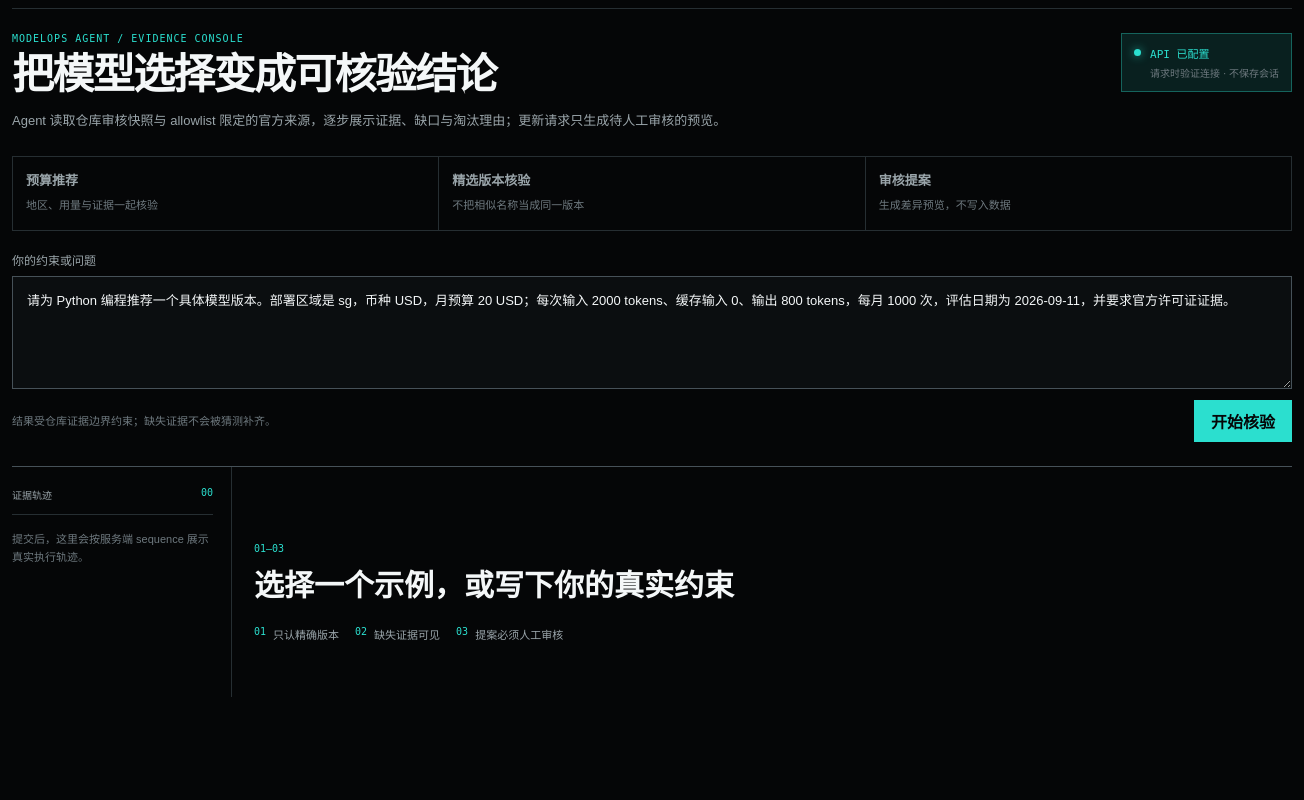
it: AgentPanel › aborts an in-flight request from the stop control
What coordinates should you click on to do the following:
click the button "开始核验"
I would click on:
 (1243, 422)
Its box is top-left (1194, 400), bottom-right (1292, 442).
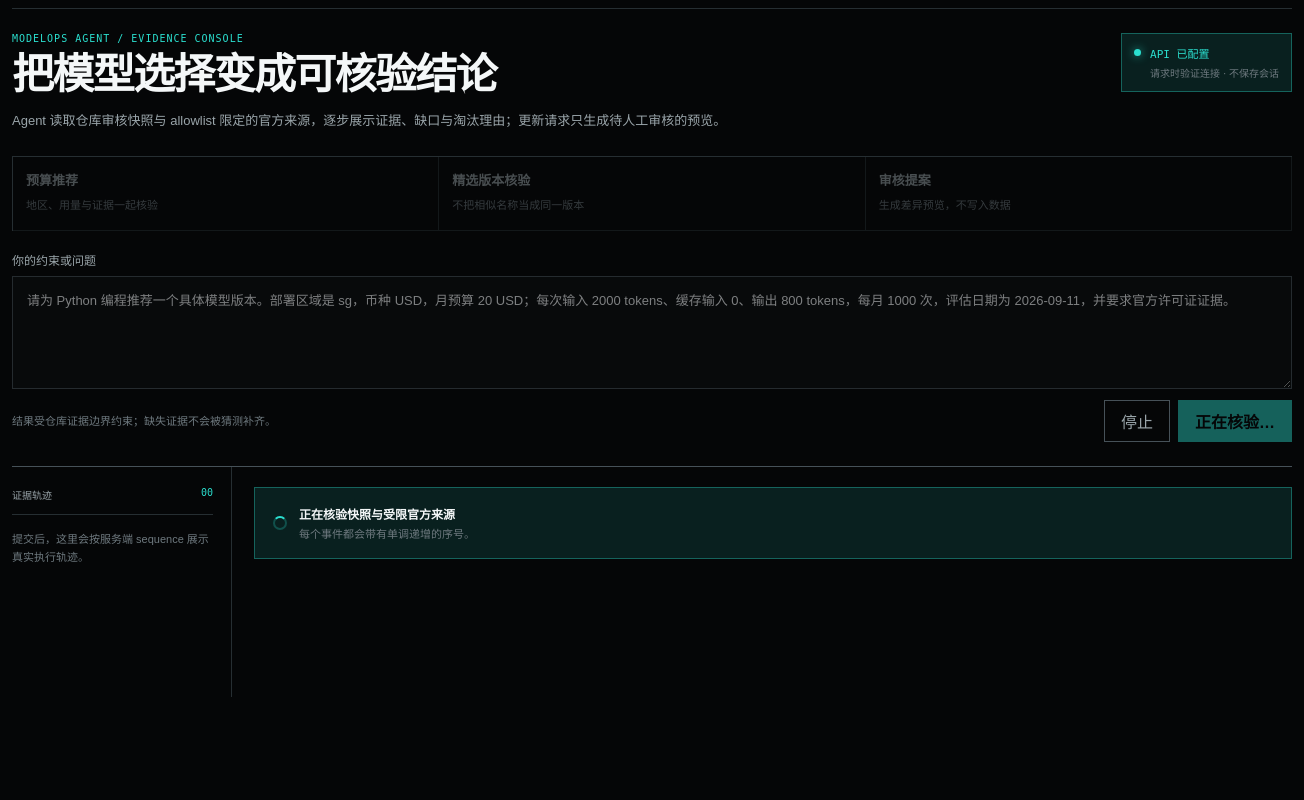
What coordinates should you click on to do the following:
click the button "停止"
I would click on:
 (1137, 422)
Its box is top-left (1104, 400), bottom-right (1170, 442).
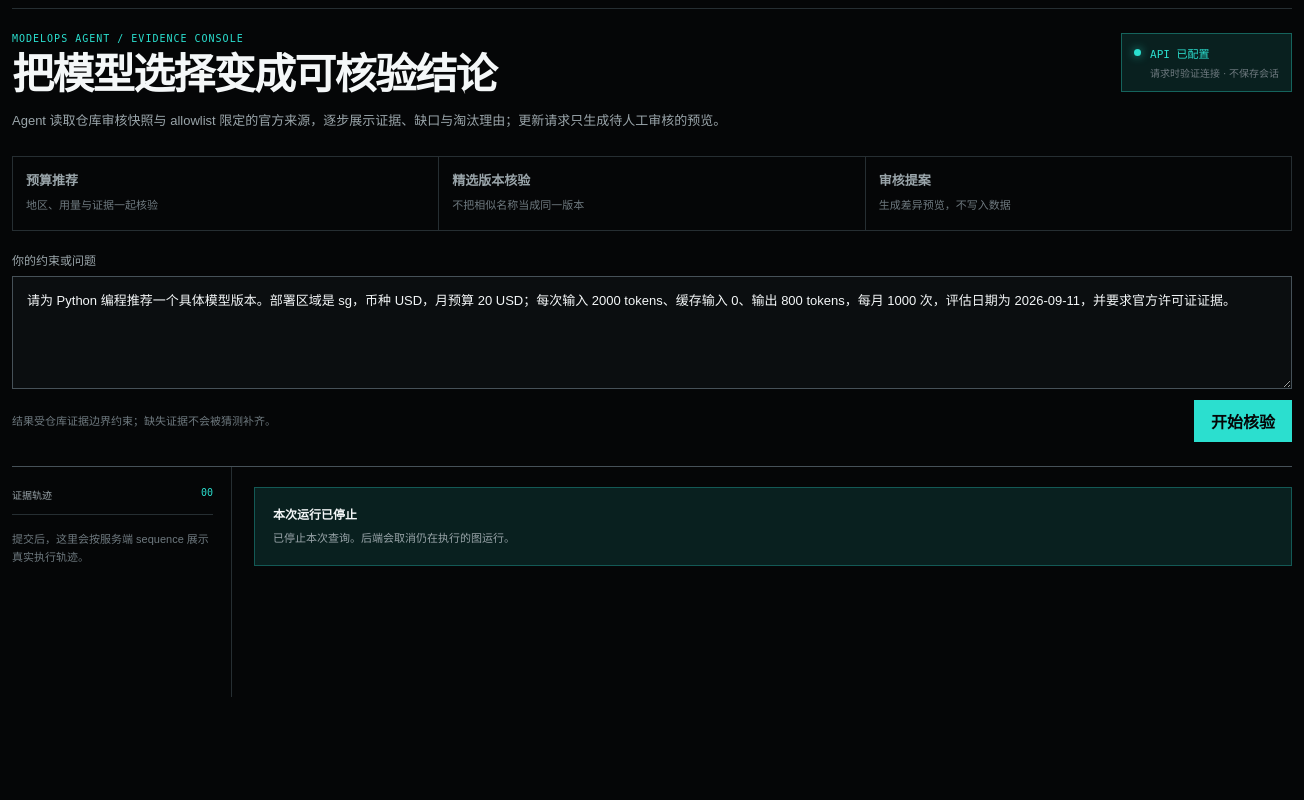
Expected: the text "本次运行已停止" is shown, top-left (273, 508), bottom-right (357, 522)
Expected: the text "已停止本次查询。后端会取消仍在执行的图运行。" is shown, top-left (273, 532), bottom-right (515, 544)
